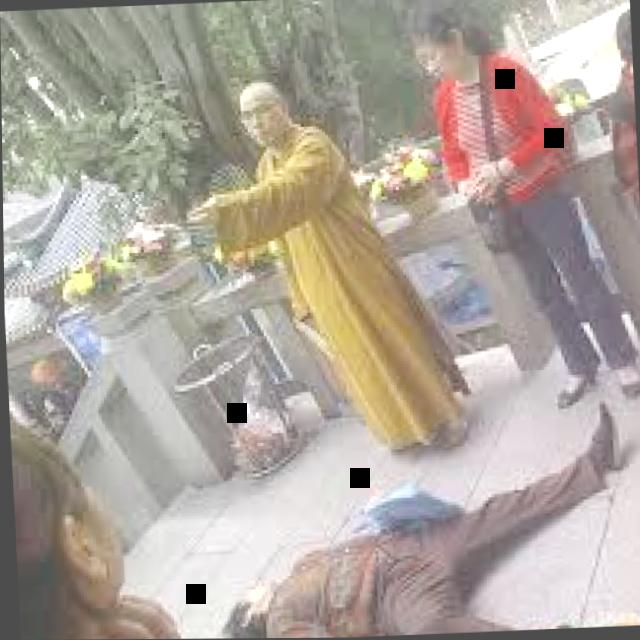Fall-Detected: (193, 381, 640, 639)
